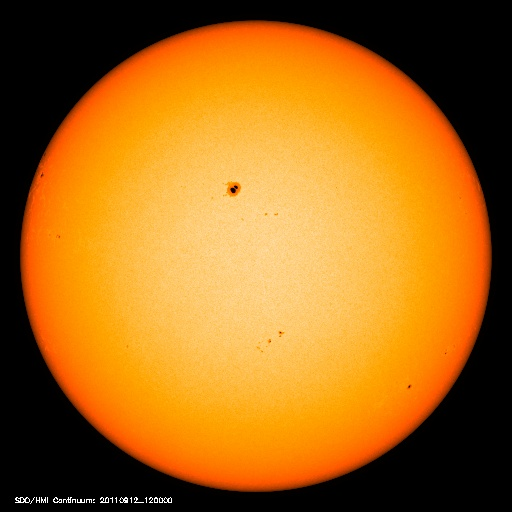sunspot: (215, 172, 284, 225), (251, 324, 291, 359), (399, 375, 422, 399), (29, 162, 51, 184)
